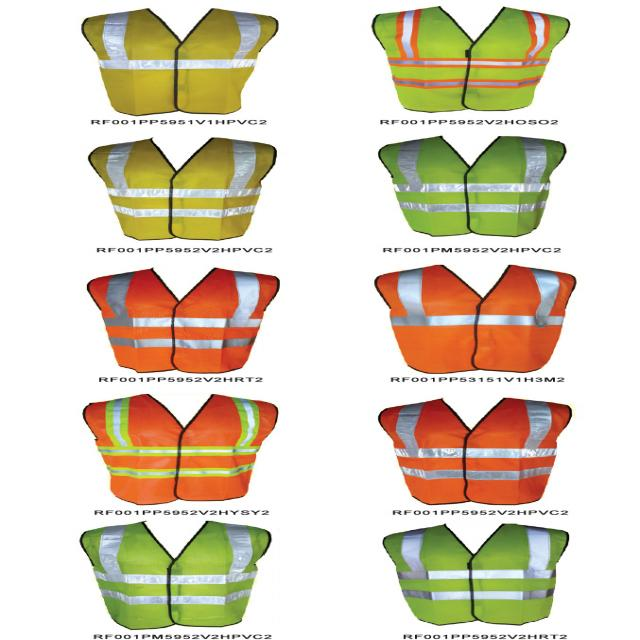Reflective-Jacket: (360, 260, 590, 378), (357, 3, 589, 118), (362, 393, 591, 509), (71, 391, 294, 508), (69, 5, 292, 120), (68, 519, 286, 634), (76, 264, 293, 379), (361, 129, 579, 241), (80, 134, 292, 247), (370, 520, 582, 632)
